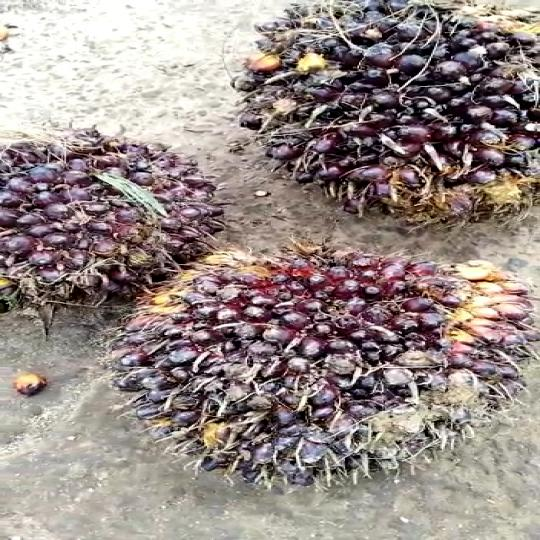kurang masak: (113, 243, 540, 478), (243, 0, 540, 222), (0, 132, 213, 305)
